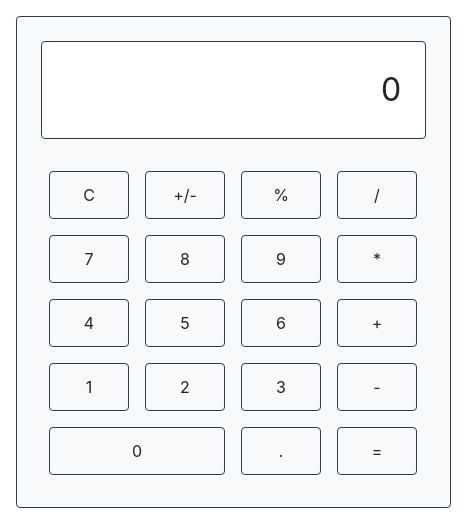
Test case: operators › returns 0.01 when 1 taken as a percentage
Click the button "1" at (89, 387), box [49,363,129,411]
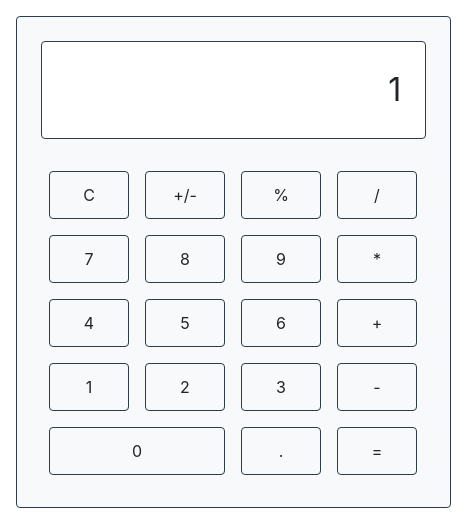
Click the button "%" at (281, 195), box [241,171,321,219]
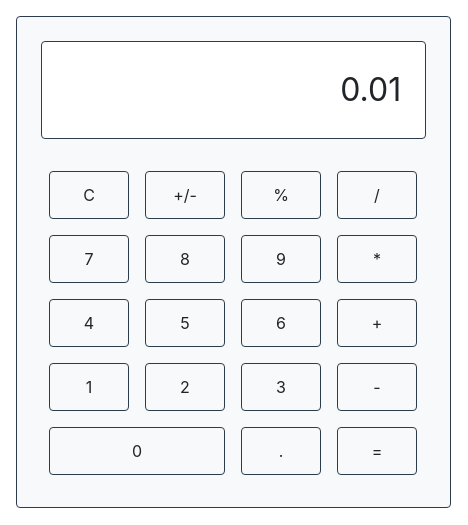
expect the text with class "displayValue" reads "0.01": met, box [340,70,401,109]
